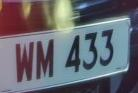3: (82, 28, 101, 74), (98, 26, 117, 70)
4: (63, 28, 84, 81)
M: (34, 37, 57, 86)
W: (13, 39, 37, 87)
